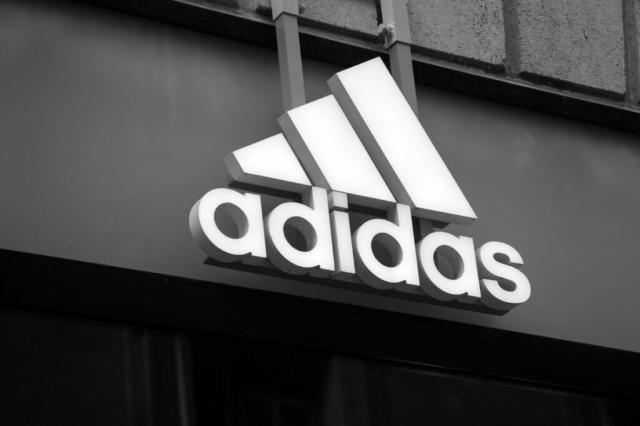Adidas: (149, 18, 601, 329)
